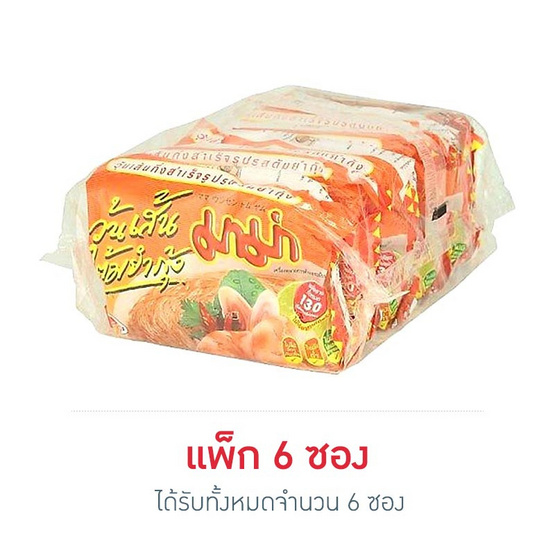Snack: (33, 79, 522, 378)
